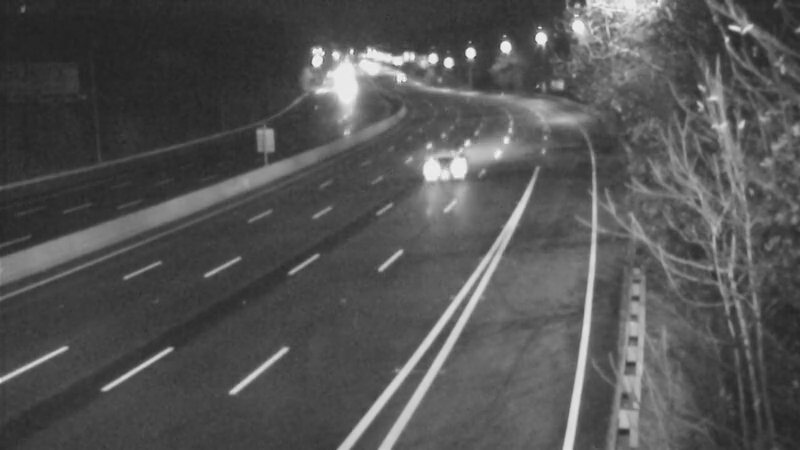vehicle: (407, 116, 487, 196), (376, 52, 426, 102)
